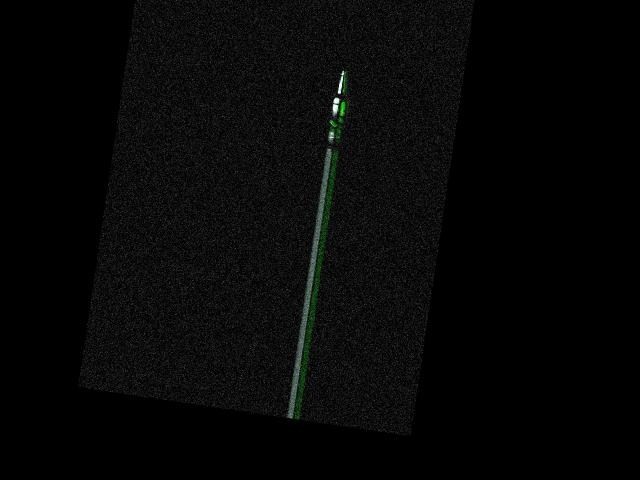beer: (327, 69, 353, 140)
